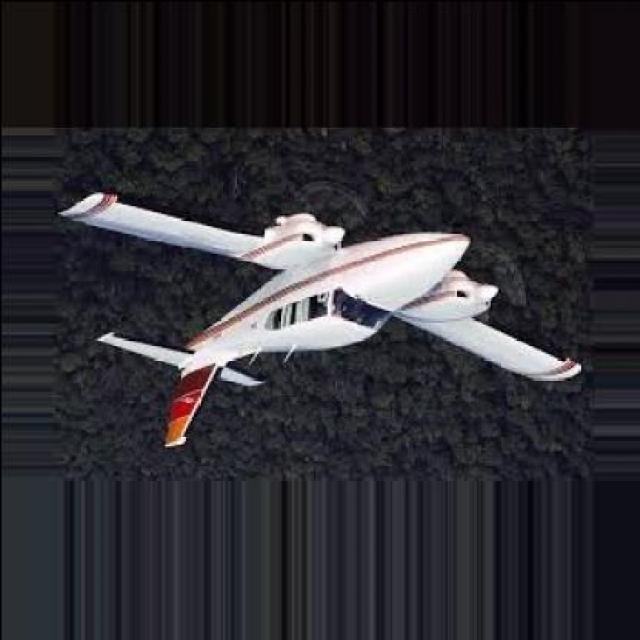iha: (27, 125, 604, 483)
